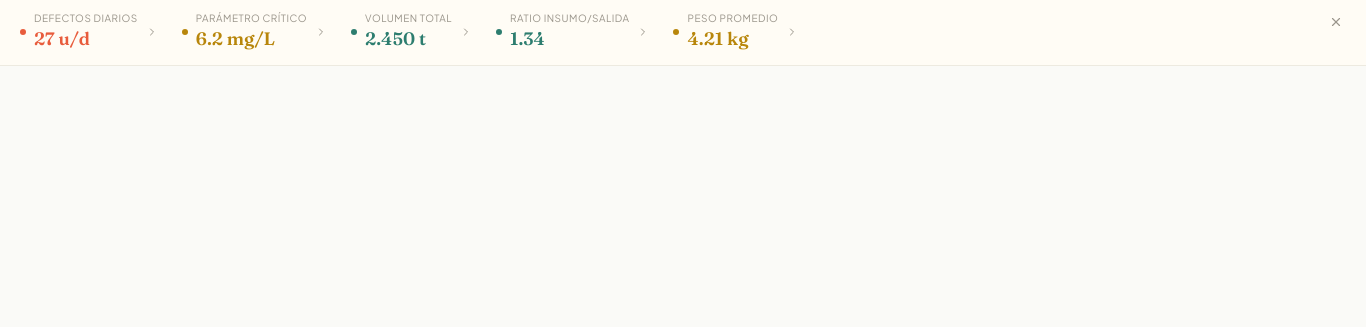
it: KpiBand · PR 5 › click en un KPI lo expande mostrando stats
The image size is (1366, 327).
Step 1. Click the button "Defectos diarios 27 u/d" → (89, 32), box [16, 8, 162, 56]
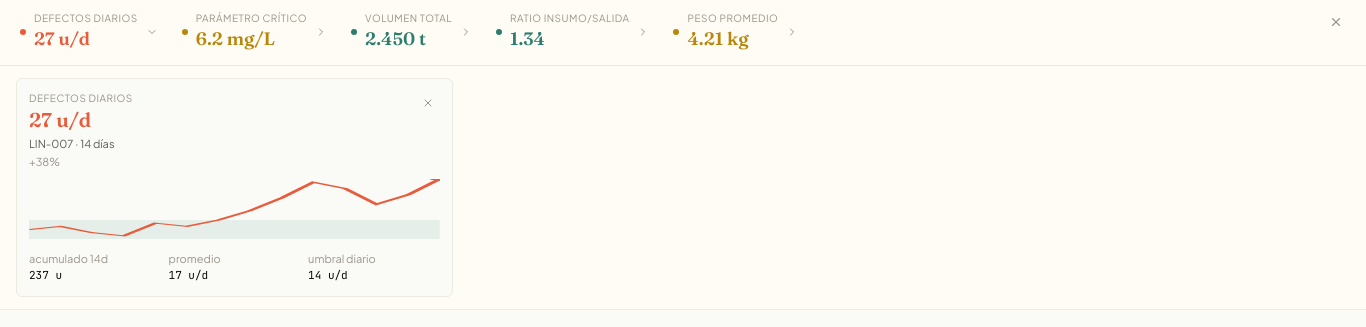
Check: the text "acumulado 14d" is shown, box [29, 252, 108, 264]
